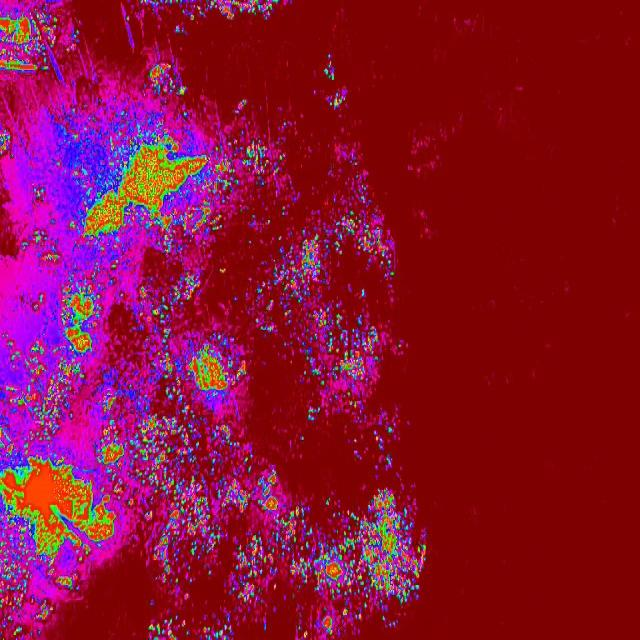fire: (132, 405, 296, 596), (266, 212, 404, 422), (0, 447, 121, 640), (72, 127, 238, 255), (297, 487, 429, 640), (0, 334, 85, 446), (137, 269, 201, 406), (172, 332, 260, 406), (56, 265, 115, 355), (0, 1, 57, 76), (134, 0, 300, 24), (95, 391, 132, 468), (234, 135, 286, 186), (141, 57, 191, 101), (17, 230, 63, 270), (148, 621, 234, 640), (20, 292, 50, 318), (325, 86, 353, 112), (0, 124, 14, 160), (232, 99, 253, 118), (30, 183, 48, 204)
